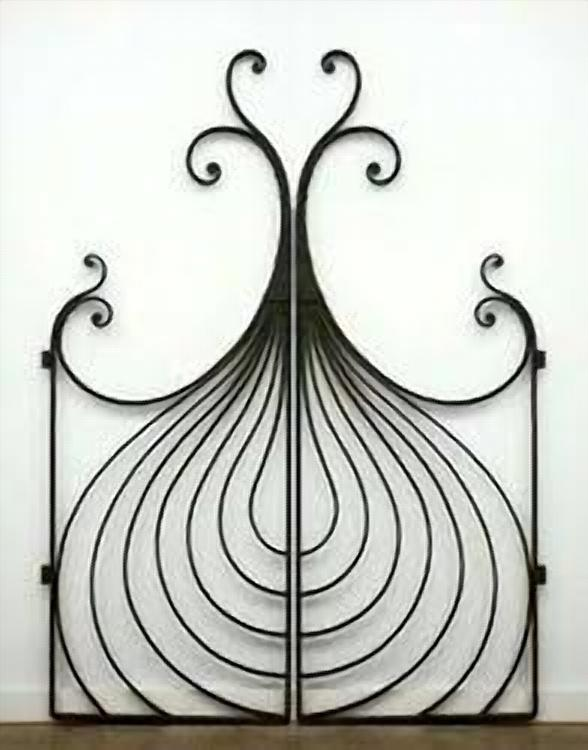Gate: (40, 46, 551, 731)
